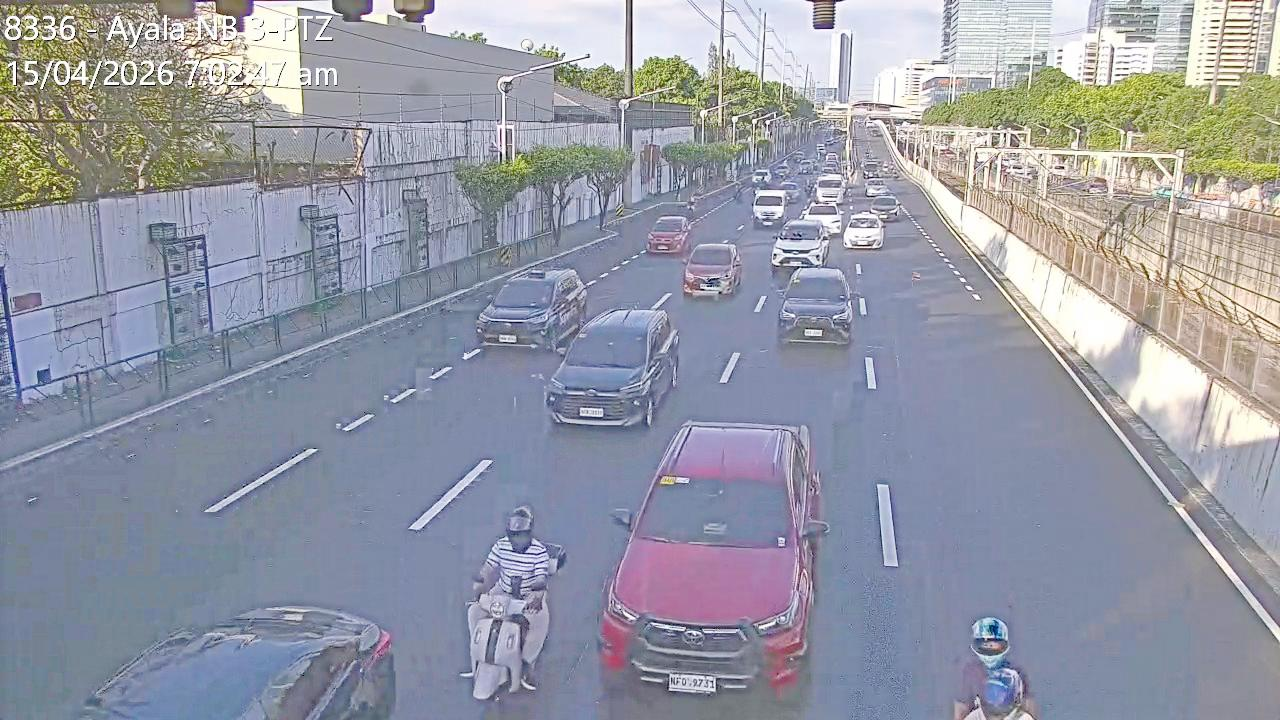Car: (594, 420, 821, 692), (74, 607, 391, 720), (546, 304, 678, 427), (474, 267, 587, 353), (775, 264, 856, 347), (682, 240, 744, 298), (769, 218, 830, 270), (644, 215, 693, 255), (797, 200, 845, 238), (841, 211, 885, 250), (751, 189, 788, 227), (868, 194, 901, 223), (814, 175, 845, 205), (777, 181, 803, 204), (864, 180, 889, 199)
Motor: (470, 521, 568, 695)
Not Accident: (764, 195, 861, 351)
